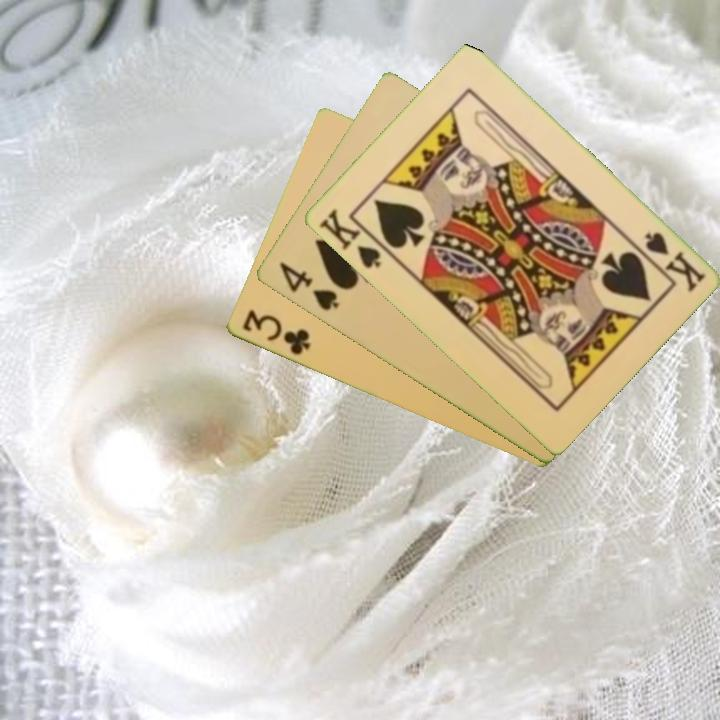3c: (238, 306, 313, 359)
4s: (274, 258, 342, 314)
Ks: (314, 205, 393, 271), (640, 228, 708, 295)
